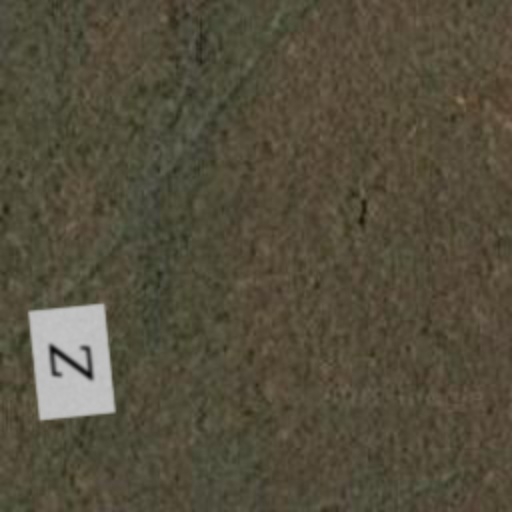rectangle: (10, 300, 134, 424)
